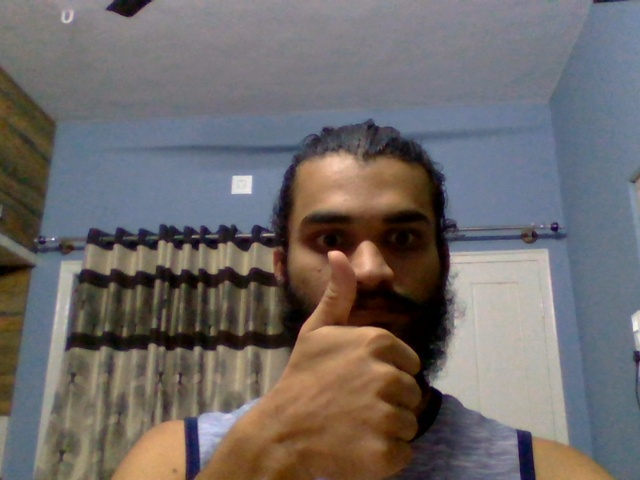ThumbsUp: (288, 248, 425, 479)
